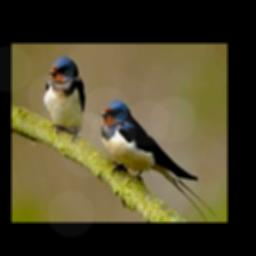Swallow: (99, 100, 215, 220), (43, 56, 85, 135)
